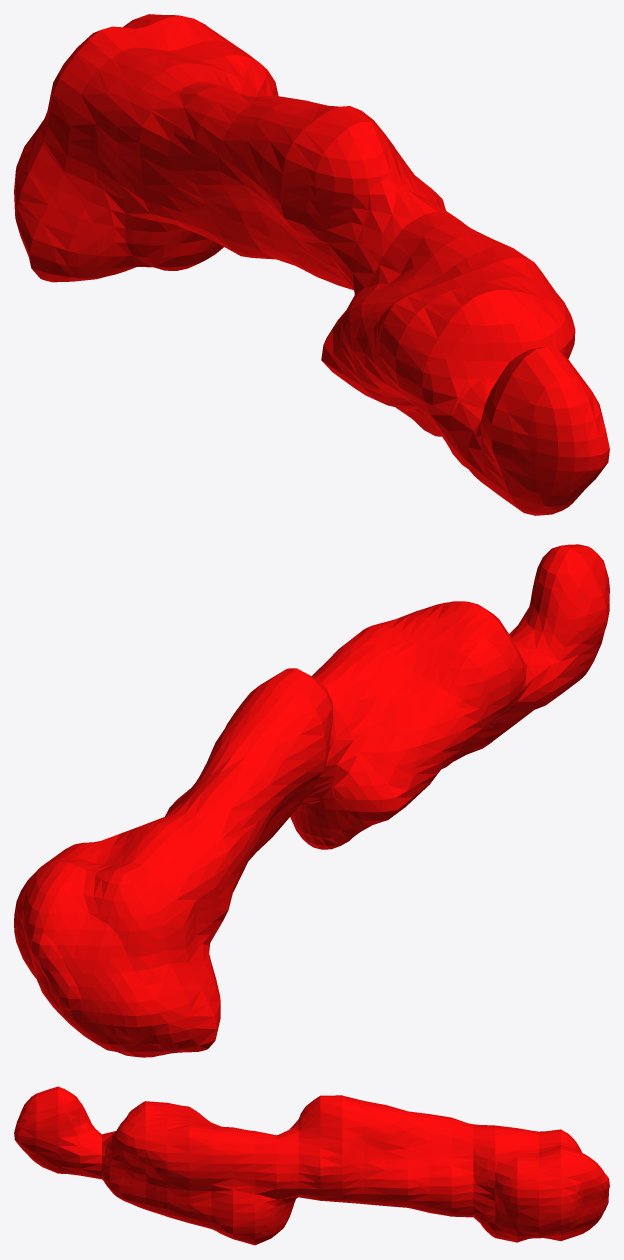
Rendered from ygiM_coarse.dae.
3 views of the same model, one above another, from view 1: azimuth 30°, elevation 25°; view 2: azimuth 150°, elevation 25°; view 3: azimuth 270°, elevation 25° (orthographic). The views are drawn at different scales.
Visible parts, largest first — view 1: ygiM; view 2: ygiM; view 3: ygiM.
Boxes of the visible parts, x1,y1,x2,y2 form: ygiM: (14,14,609,515); ygiM: (14,544,609,1057); ygiM: (14,1086,609,1245).
Bounding box in the file's own units: 31.64 × 37.24 × 133.
